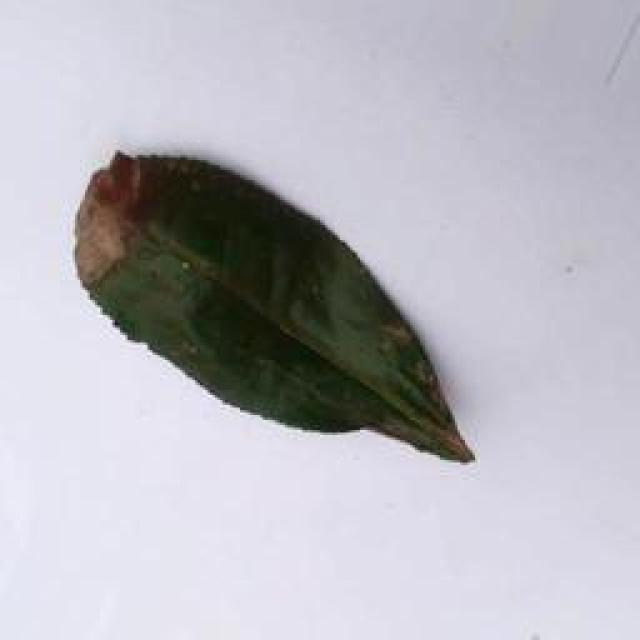Brown Blight: (54, 147, 490, 466)
